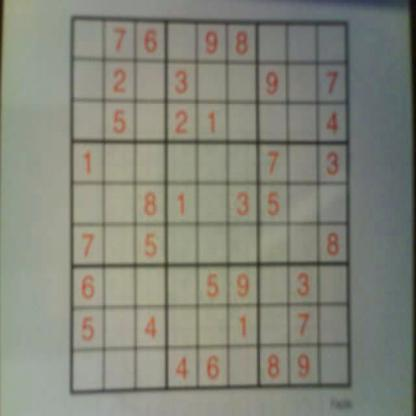sudoku: (64, 9, 357, 398)
